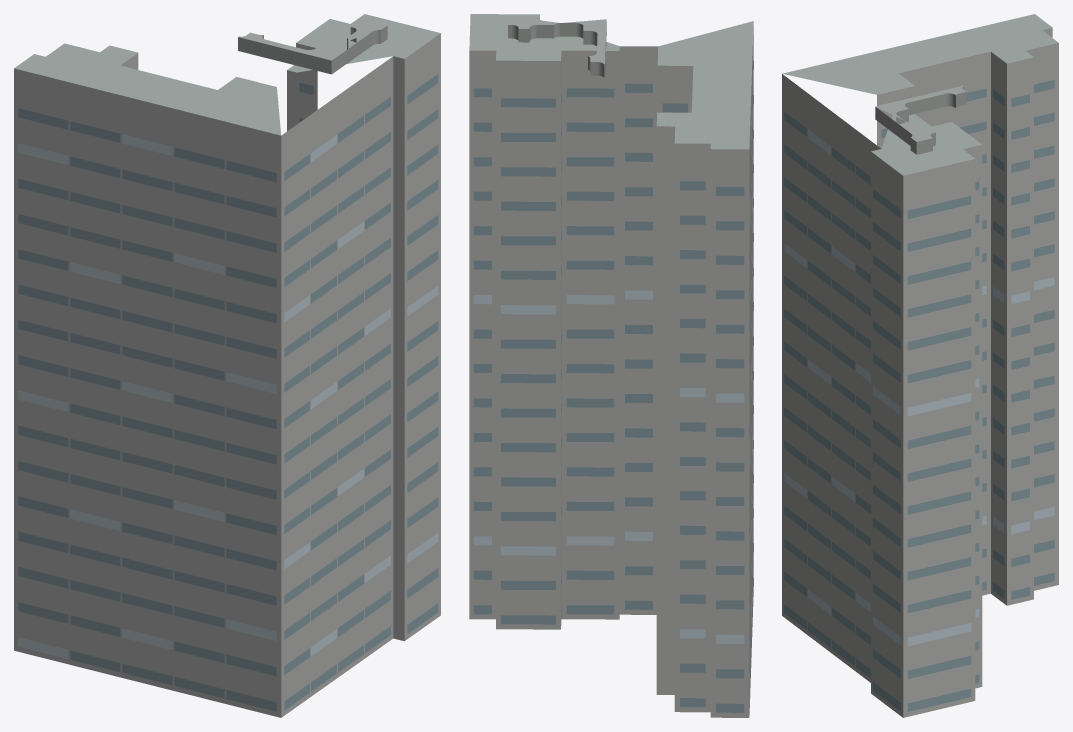
File: fallback-onebailey-117.glb
3 renders of one model, left to right at view 1: azimuth 30°, elevation 25°; view 2: azimuth 150°, elevation 25°; view 3: azimuth 270°, elevation 25°, orthographic. The views are drawn at different scales.
Visible parts, largest first — view 1: fallback-onebailey-117; view 2: fallback-onebailey-117; view 3: fallback-onebailey-117.
Boxes of the visible parts, box(x1,y1,x2,y2) form: fallback-onebailey-117: box(14, 14, 440, 717); fallback-onebailey-117: box(469, 14, 753, 717); fallback-onebailey-117: box(782, 14, 1058, 717).
Bounding box in the file's own units: 64.41 × 103 × 46.58.
